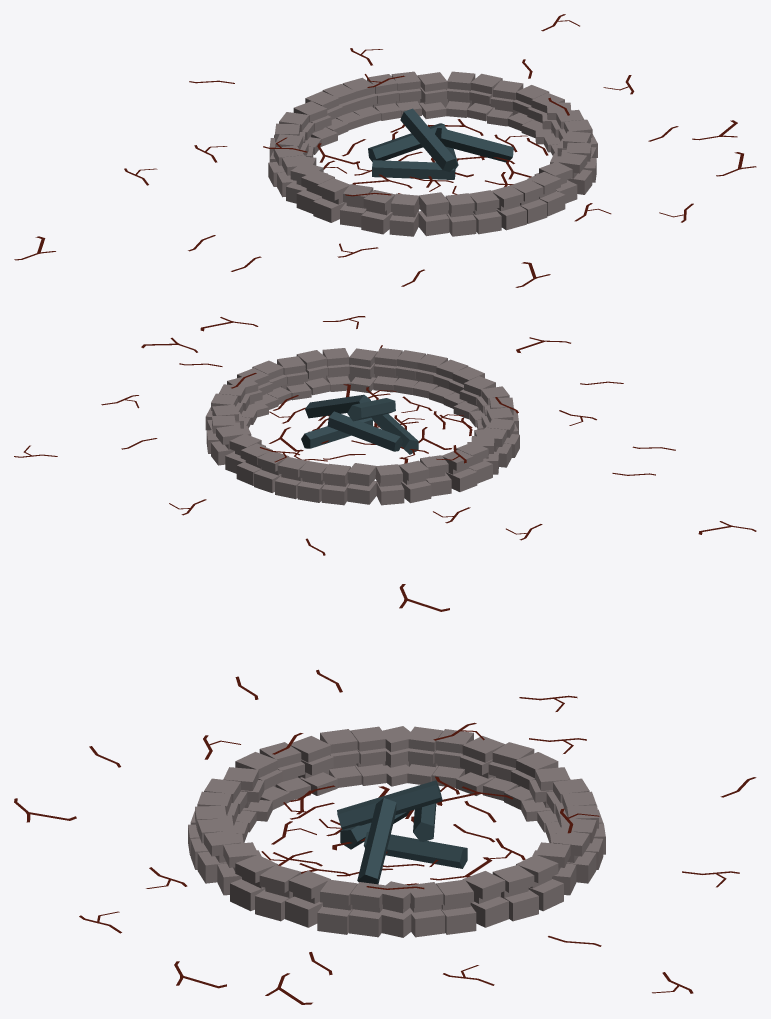
The model's file is Pyre.fbx.
3 views of the same model, one above another, from view 1: azimuth 30°, elevation 25°; view 2: azimuth 150°, elevation 25°; view 3: azimuth 270°, elevation 25° (orthographic). The views are drawn at different scales.
Parts seen in each view (by area): view 1: Pyre; view 2: Pyre; view 3: Pyre.
Boxes of the visible parts, box(x1,y1,x2,y2) form: Pyre: box(14, 14, 756, 287); Pyre: box(14, 316, 756, 555); Pyre: box(14, 584, 756, 1004).
Bounding box in the file's own units: 1043 × 73.05 × 778.
